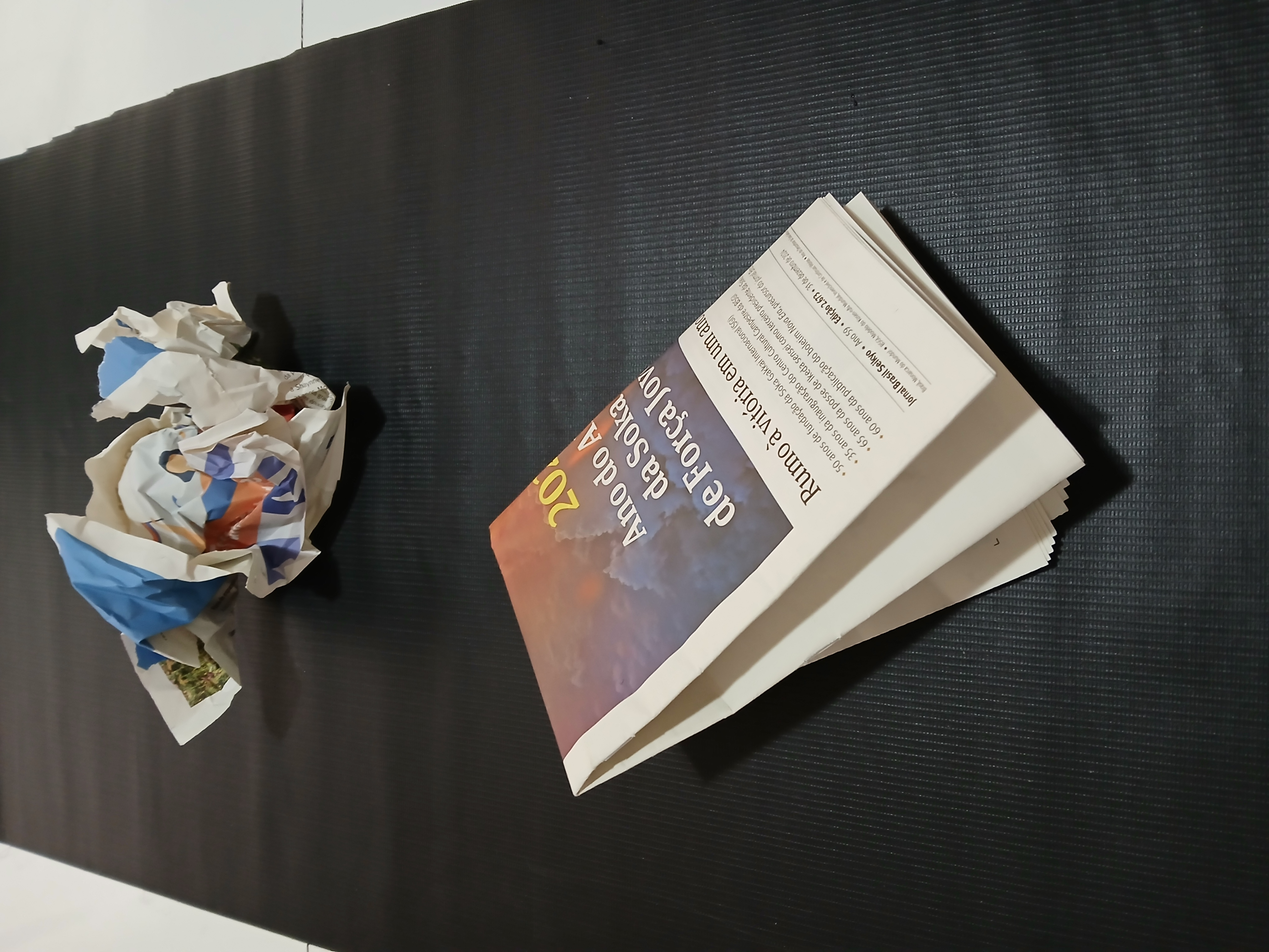Battery: (484, 183, 1140, 805), (38, 279, 388, 753)
